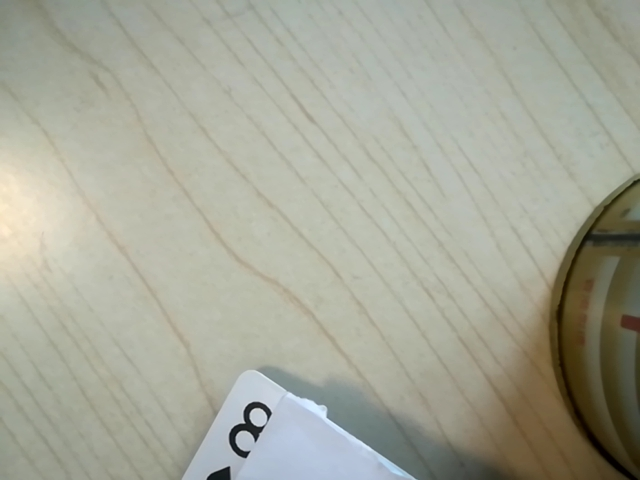ht 8: (201, 387, 281, 480)
